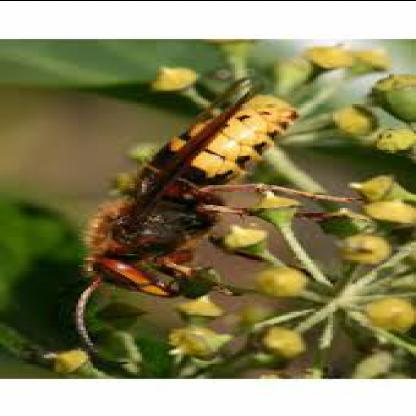european: (68, 79, 338, 336)
